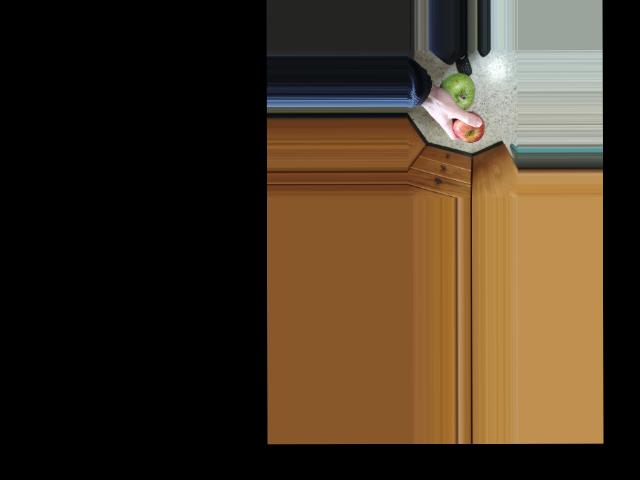apple: (436, 70, 477, 111)
